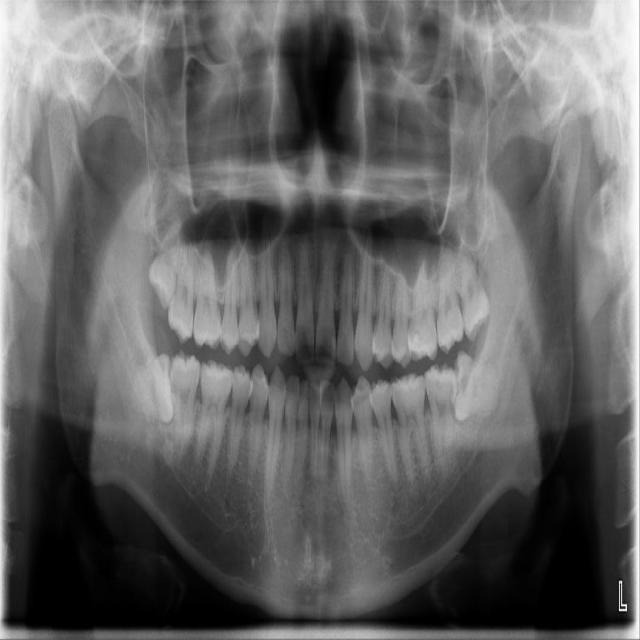3M ESPE Implant: (145, 218, 183, 312)
52: (190, 356, 239, 408), (448, 391, 457, 421)
73: (606, 551, 616, 564)
BioHorizons Implant: (437, 240, 464, 356)
BioLife Implant: (455, 219, 493, 343)
Biomet 3i Implant: (450, 349, 500, 424)
Blue Sky Bio Implant: (420, 360, 473, 477)
Caries: (167, 227, 195, 344)
Implant: (167, 349, 202, 464)
Keystone Dental Implant: (125, 352, 175, 427)
